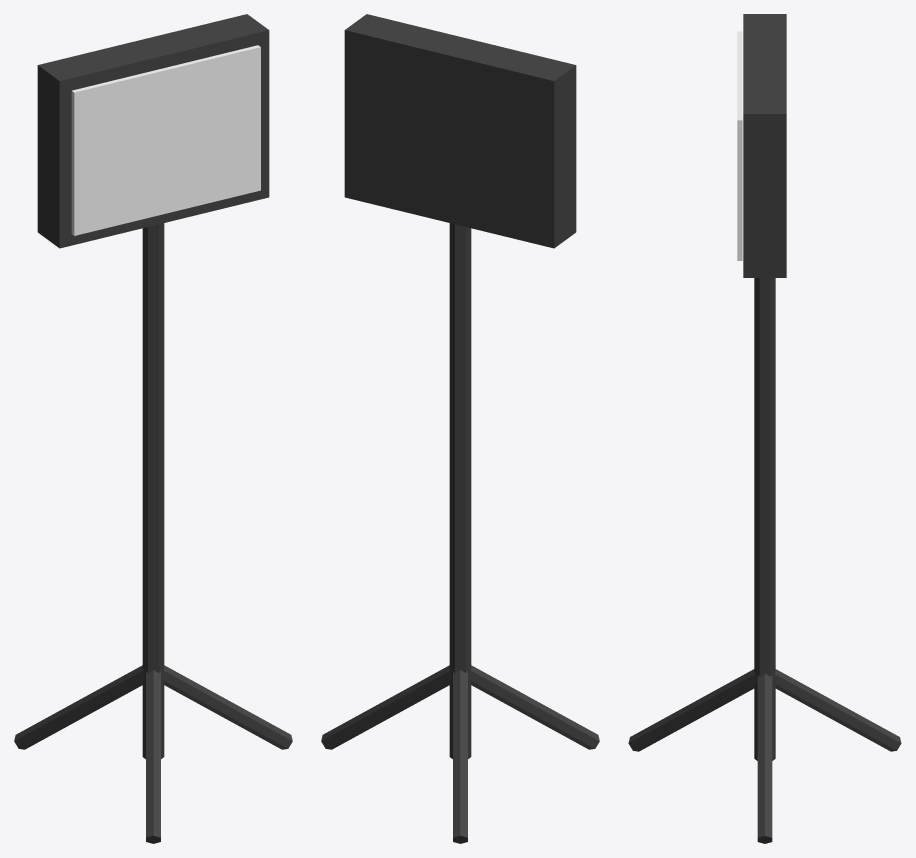
The picture shows the model from 3 angles, left to right: view 1: azimuth 30°, elevation 25°; view 2: azimuth 150°, elevation 25°; view 3: azimuth 270°, elevation 25°; orthographic projection. The views are drawn at different scales.
Visible parts, largest first — view 1: Diffuser, Light panel, Pole, Tripod leg, Tripod leg.001, Tripod leg.002; view 2: Light panel, Pole, Tripod leg, Tripod leg.002, Tripod leg.001; view 3: Light panel, Pole, Tripod leg, Tripod leg.001, Tripod leg.002, Diffuser.
Boxes of the visible parts, x1,y1,x2,y2 form: Diffuser: (71, 45, 260, 235); Light panel: (37, 14, 269, 248); Pole: (142, 223, 164, 758); Tripod leg: (162, 665, 292, 749); Tripod leg.001: (14, 665, 144, 749); Tripod leg.002: (146, 670, 160, 843); Light panel: (344, 14, 576, 248); Pole: (449, 223, 471, 758); Tripod leg: (321, 665, 451, 749); Tripod leg.002: (469, 665, 599, 749); Tripod leg.001: (453, 670, 467, 843); Light panel: (743, 14, 786, 277); Pole: (754, 278, 775, 760); Tripod leg: (757, 673, 772, 843); Tripod leg.001: (773, 669, 901, 751); Tripod leg.002: (628, 669, 756, 751); Diffuser: (737, 31, 742, 260).
Size of the model in its own units: 63.71 by 184 by 63.4.
